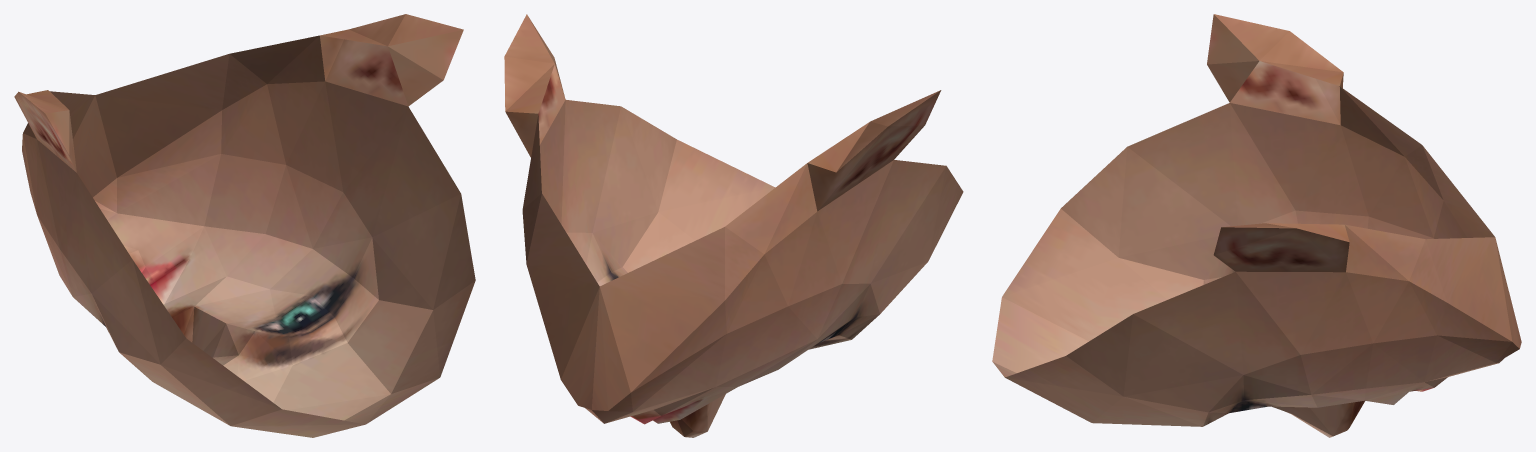
File: common_face_female_2307.obj
3 renders of one model, left to right at view 1: azimuth 30°, elevation 25°; view 2: azimuth 150°, elevation 25°; view 3: azimuth 270°, elevation 25°, orthographic. The views are drawn at different scales.
Visible parts, largest first — view 1: B; view 2: B; view 3: B.
Boxes of the visible parts, x1,y1,x2,y2 form: B: [14, 14, 475, 437]; B: [504, 14, 963, 437]; B: [992, 14, 1521, 437].
Size of the model in its own units: 7.07 by 5.75 by 8.21.
1 material, 1 textured.
